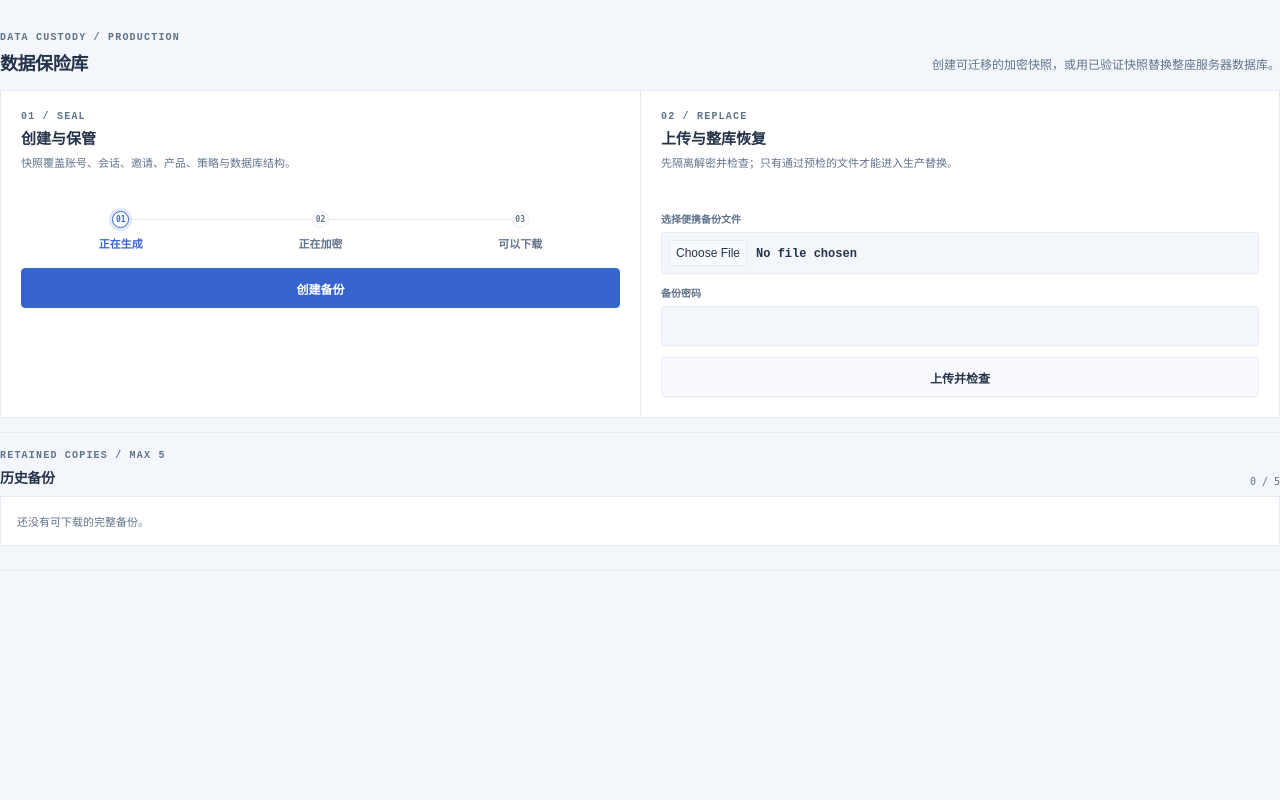
data vault backup custody › locks restore upload while a backup maintenance job is active
Click the button "创建备份". click: click(320, 288)
box: [21,268,620,308]
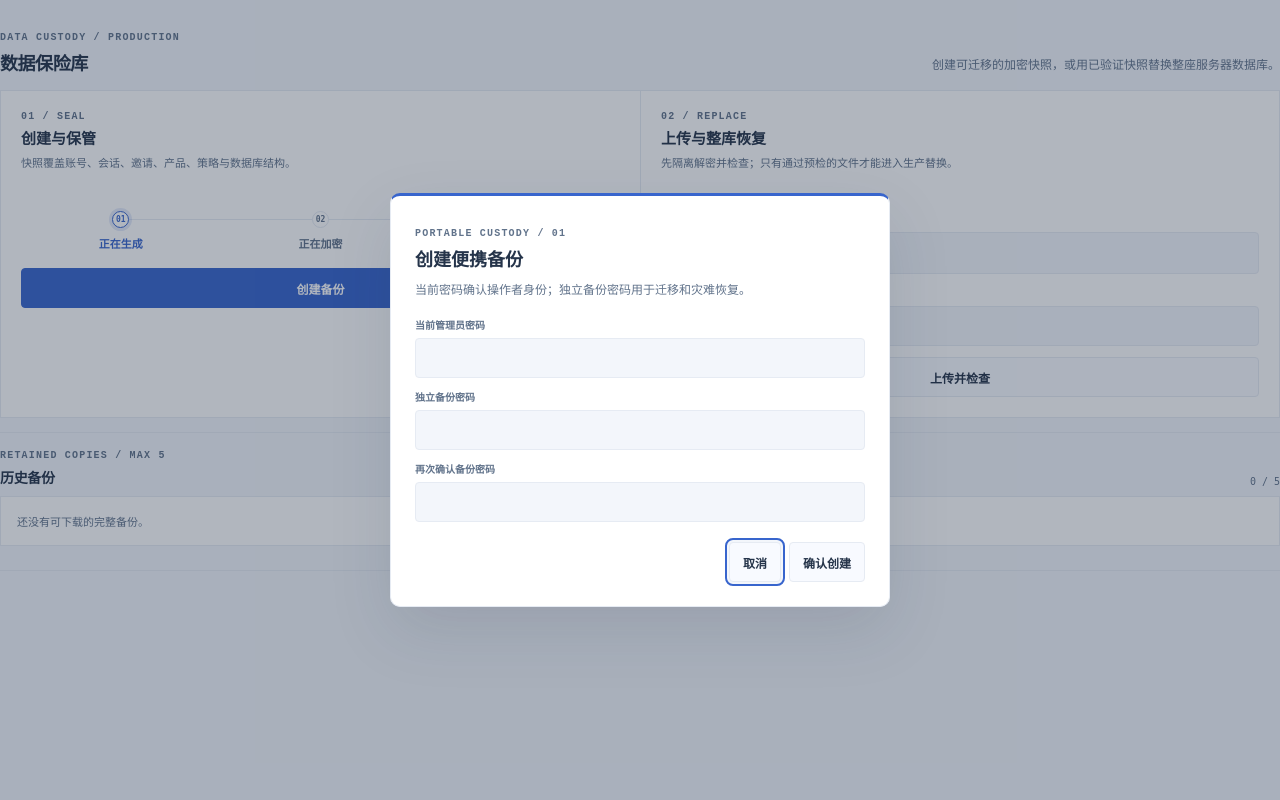
Type "current-password" into the password field labelled "当前管理员密码". click: (640, 358)
box: [415,338,865,378]
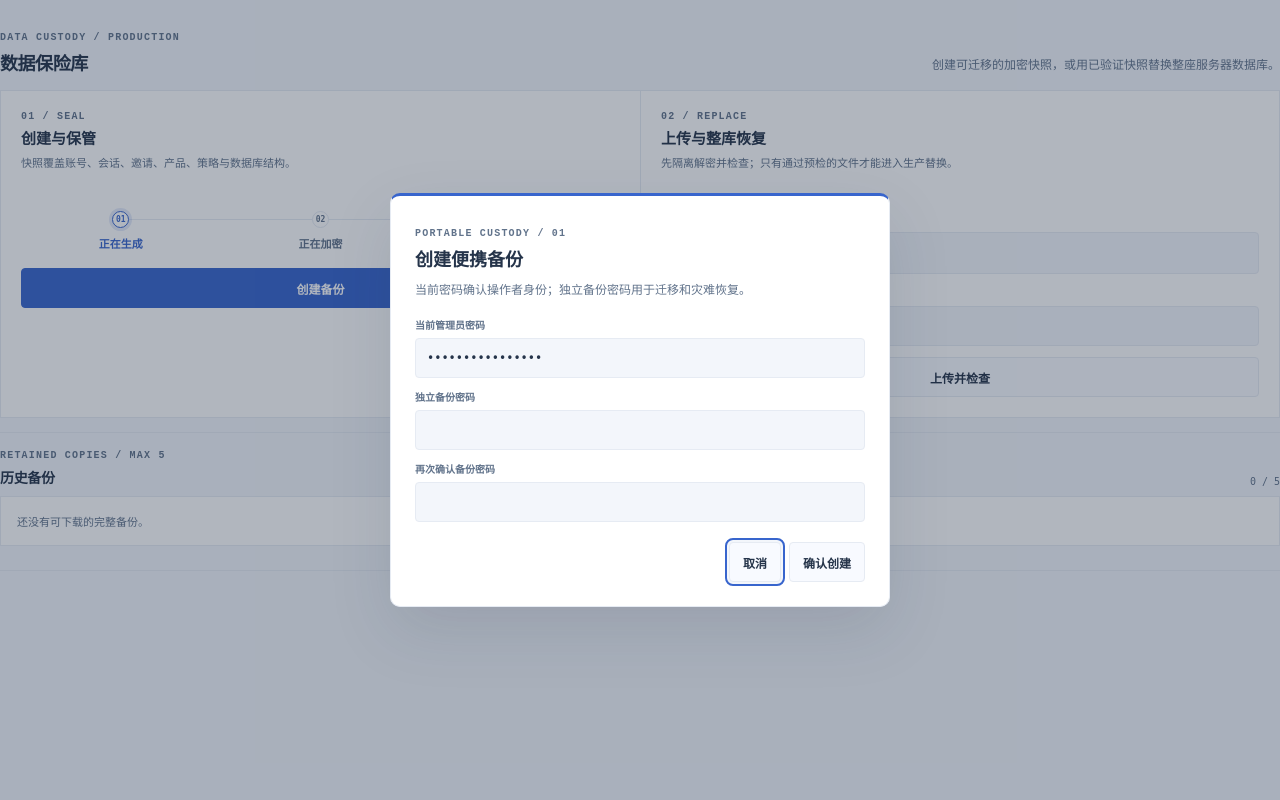
Type "portable-password" into the password field labelled "独立备份密码". click: (640, 430)
box: [415,410,865,450]
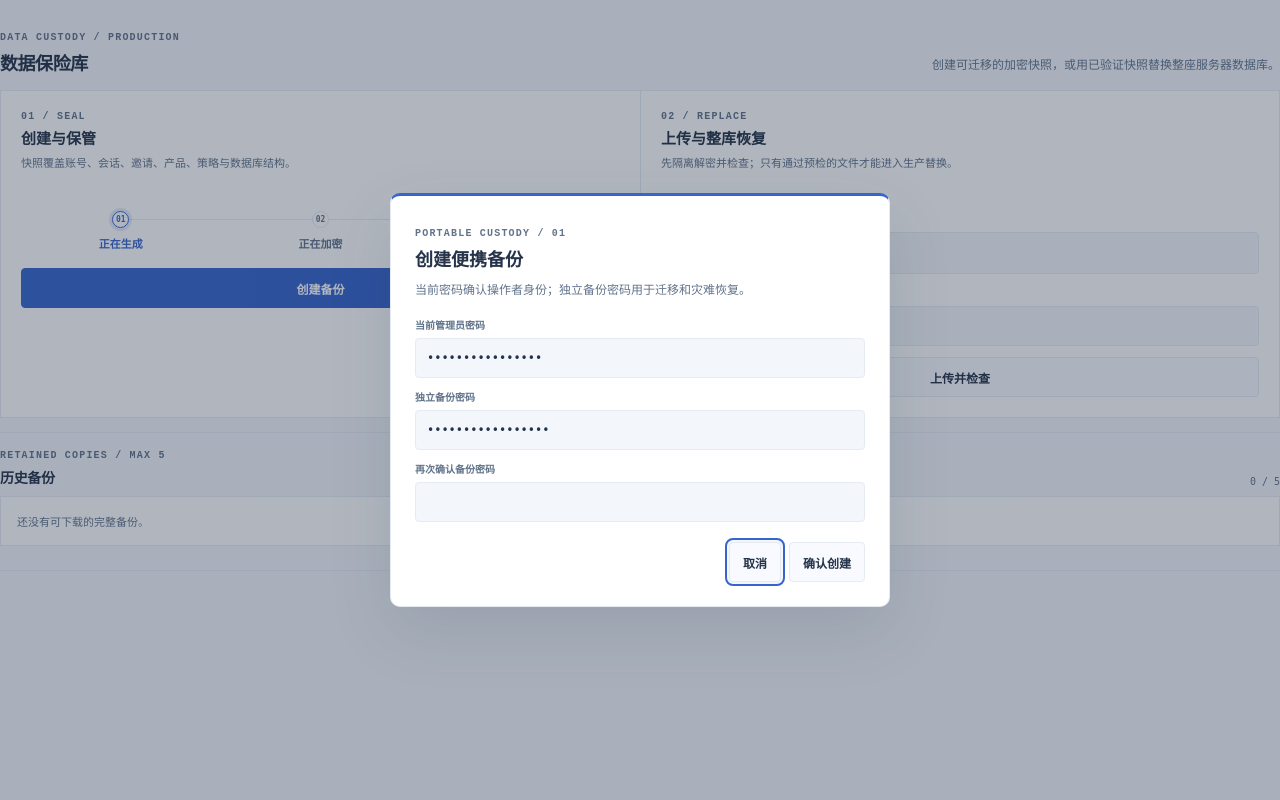
Type "portable-password" into the password field labelled "再次确认备份密码". click: (640, 502)
box: [415,482,865,522]
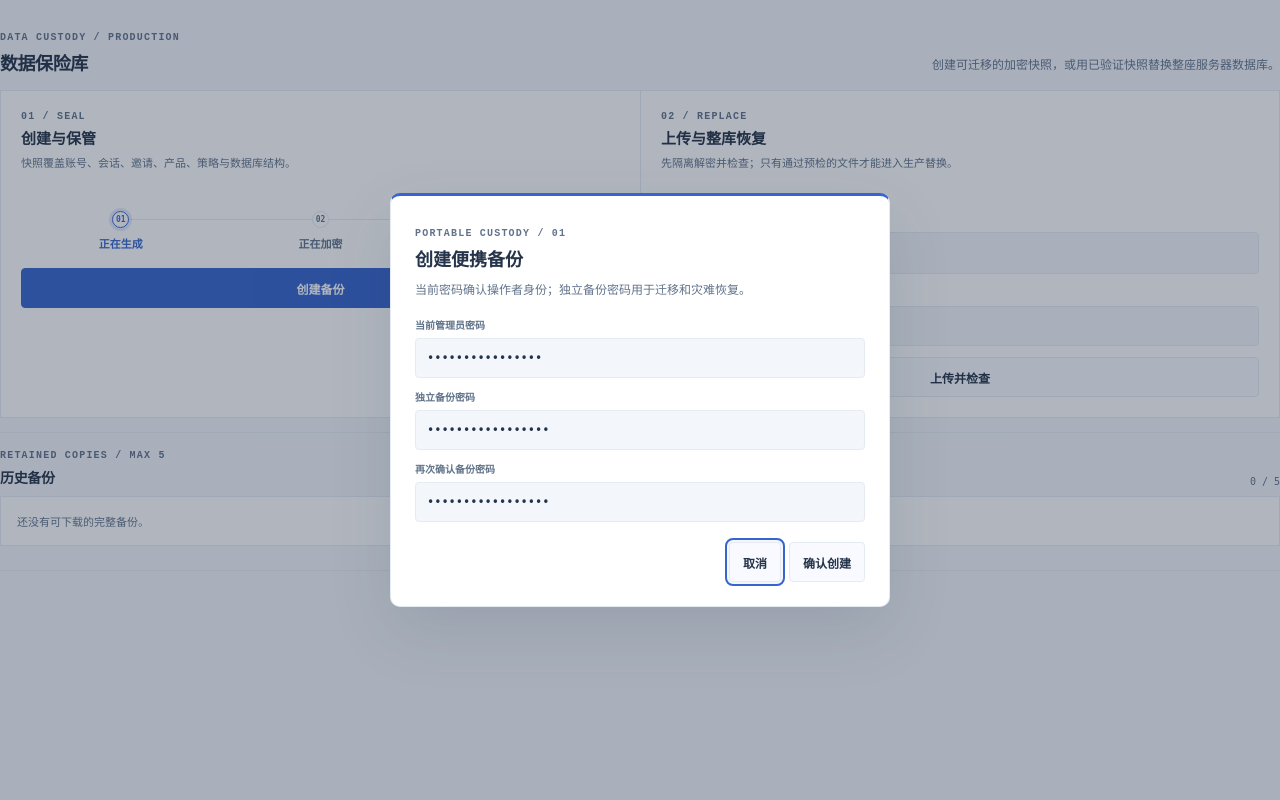
Submit the form named "确认创建", box [391,196,889,606]
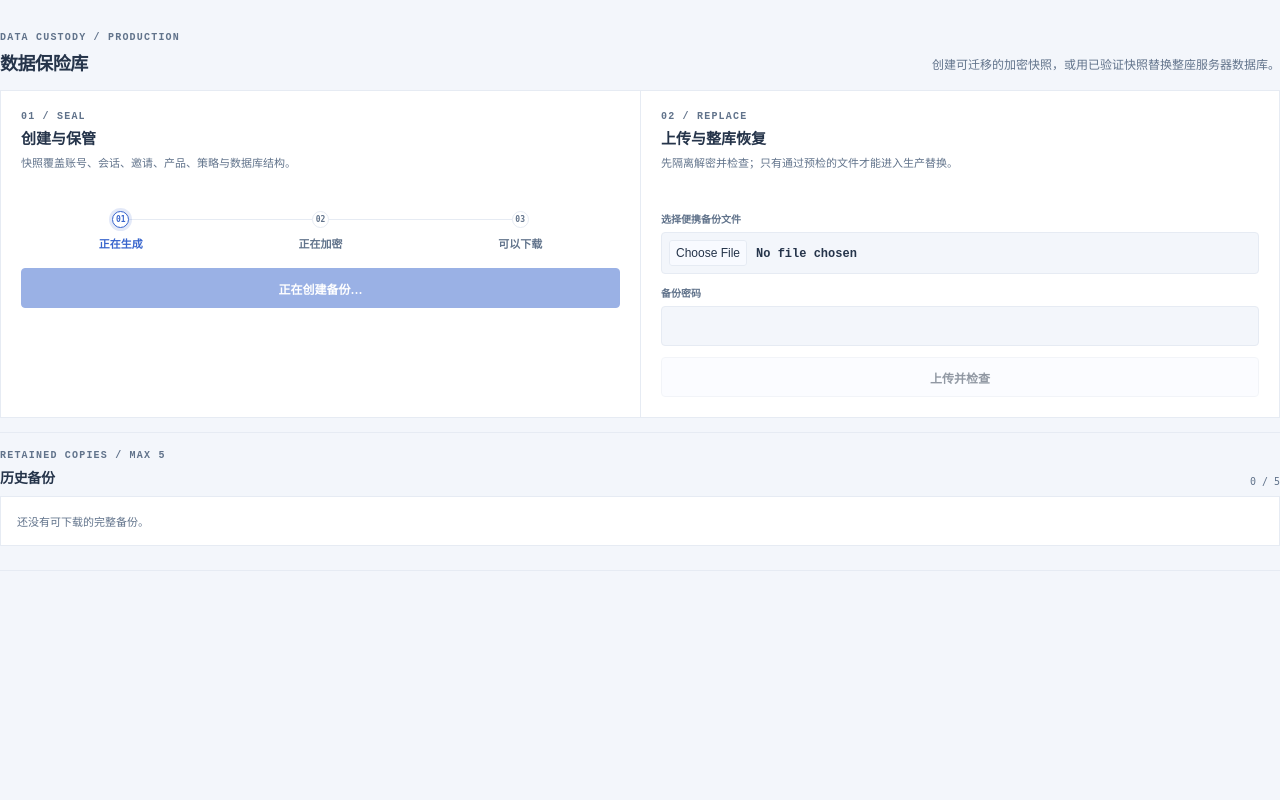
Check: the file field labelled "选择便携备份文件" is disabled, box [661,232,1259,274]
Check: the password field labelled "备份密码" is disabled, box [661,306,1259,346]
Check: the button "上传并检查" is disabled, box [661,357,1259,397]
